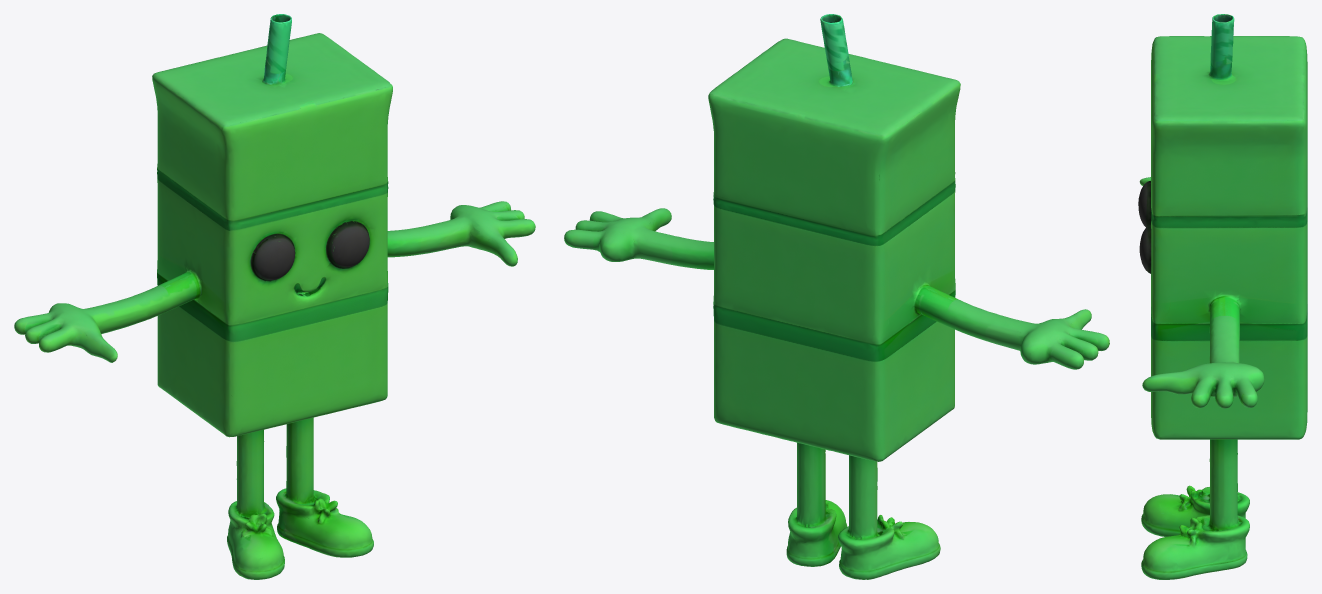
3 renders of one model, left to right at view 1: azimuth 30°, elevation 25°; view 2: azimuth 150°, elevation 25°; view 3: azimuth 270°, elevation 25°, orthographic. The views are drawn at different scales.
Bounding box in the file's own units: 1.92 × 1.91 × 0.5502.
Materials: 1 (1 with a texture image).
